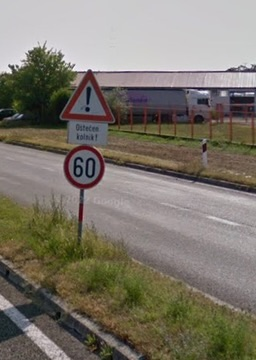Ograničenje brzine 60: (63, 144, 105, 189)
